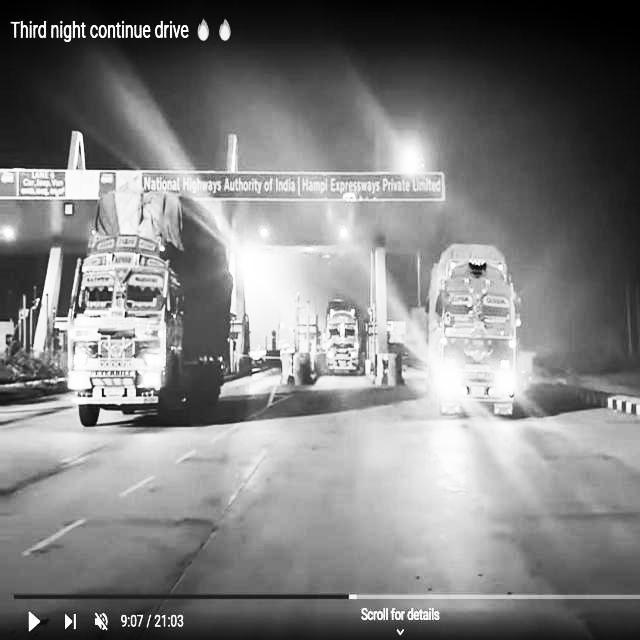Truck: (63, 190, 252, 426), (424, 242, 522, 417), (324, 298, 362, 375)
